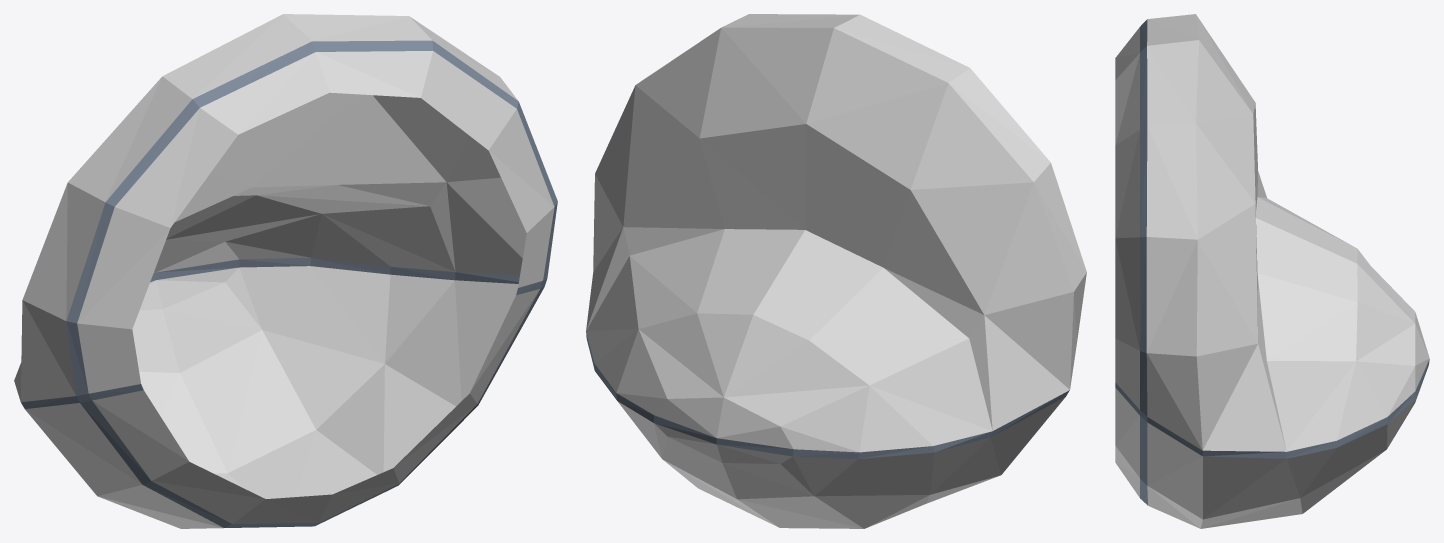
File: BeanBag.fbx
The picture shows the model from 3 angles, left to right: view 1: azimuth 30°, elevation 25°; view 2: azimuth 150°, elevation 25°; view 3: azimuth 270°, elevation 25°; orthographic projection. The views are drawn at different scales.
Parts seen in each view (by area): view 1: BeanBagChair (5); view 2: BeanBagChair (5); view 3: BeanBagChair (5).
Part boxes in pixels (box(x1,y1,x2,y2)): BeanBagChair (5): box(14, 14, 557, 528); BeanBagChair (5): box(586, 14, 1086, 528); BeanBagChair (5): box(1115, 14, 1429, 528).
Bounding box in the file's own units: 114 × 107 × 65.55.
